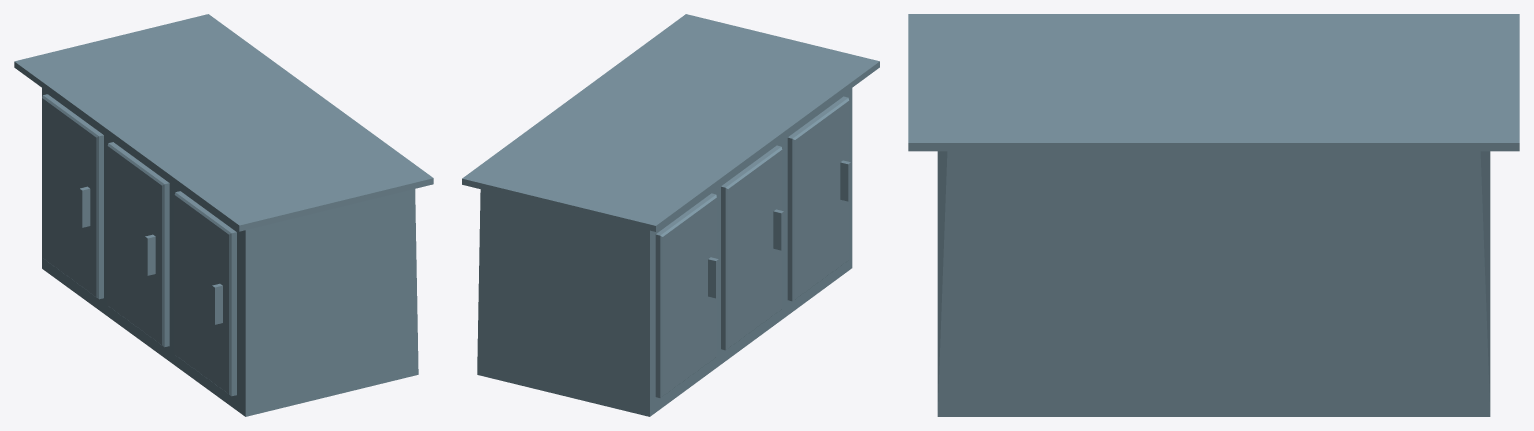
File: kitchen_countertop.fbx
The picture shows the model from 3 angles, left to right: view 1: azimuth 30°, elevation 25°; view 2: azimuth 150°, elevation 25°; view 3: azimuth 270°, elevation 25°; orthographic projection. The views are drawn at different scales.
Visible parts, largest first — view 1: kitchen_countertop; view 2: kitchen_countertop; view 3: kitchen_countertop.
Boxes of the visible parts, x1=… form: kitchen_countertop: x1=14, y1=14, x2=433, y2=416; kitchen_countertop: x1=462, y1=14, x2=879, y2=416; kitchen_countertop: x1=908, y1=14, x2=1519, y2=416.
Size of the model in its own units: 100 by 100 by 200.
